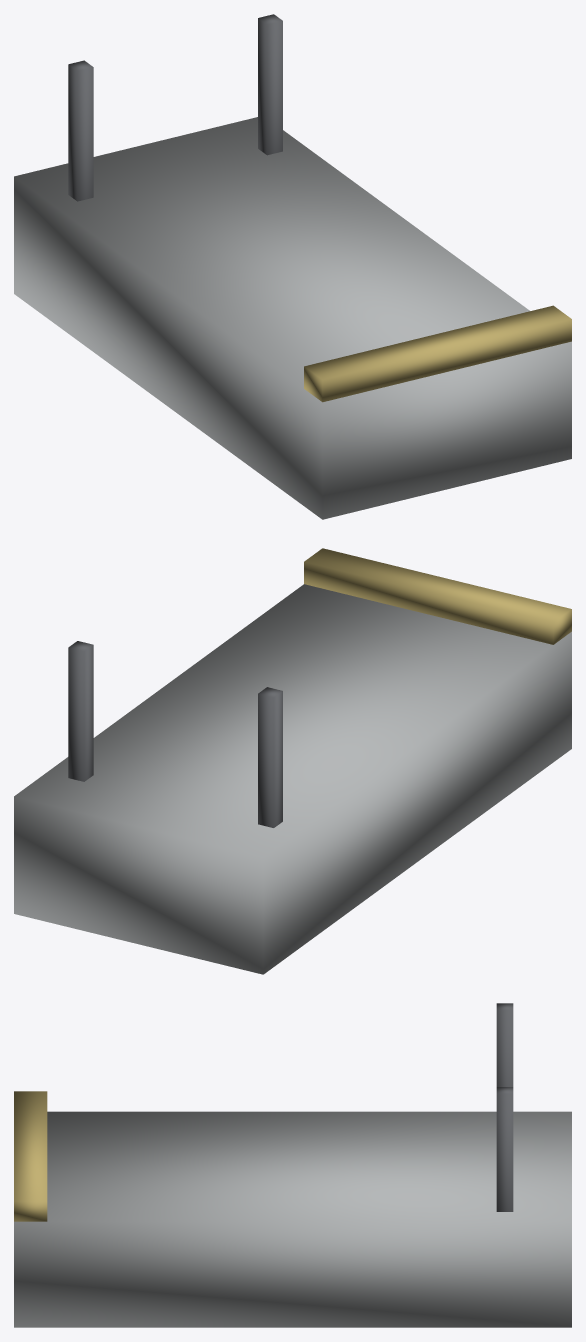
The model's file is loading_dock_05.glb.
3 views of the same model, one above another, from view 1: azimuth 30°, elevation 25°; view 2: azimuth 150°, elevation 25°; view 3: azimuth 270°, elevation 25° (orthographic). The views are drawn at different scales.
Parts seen in each view (by area): view 1: world; view 2: world; view 3: world.
Part boxes in pixels (x1=…): world: x1=14, y1=14, x2=571, y2=519; world: x1=14, y1=548, x2=571, y2=974; world: x1=14, y1=1003, x2=571, y2=1327.
Size of the model in its own units: 1.4 by 1.33 by 3.
